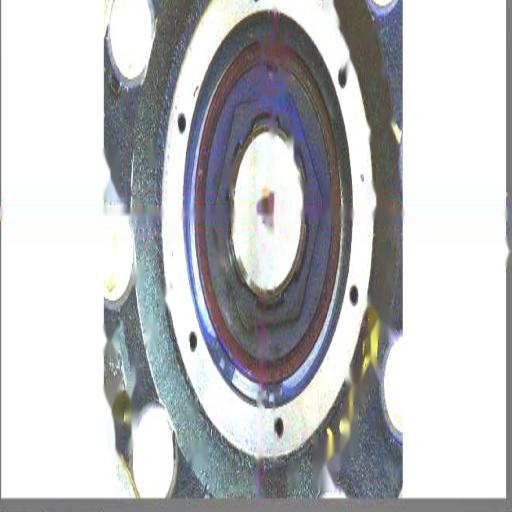center: (256, 194, 273, 222)
notch: (262, 58, 283, 80)
